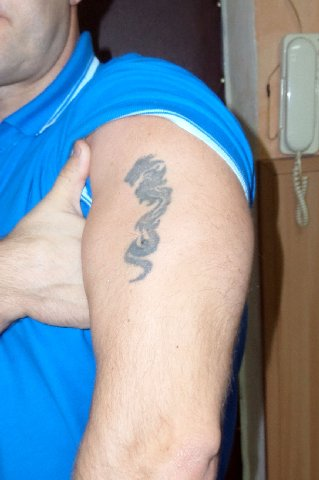tatu7_zmeya: (119, 144, 187, 285)
